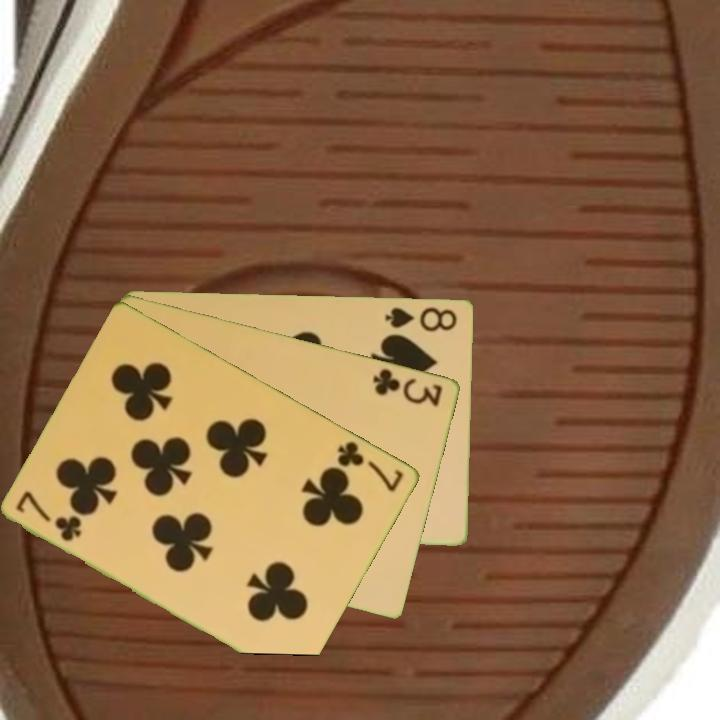3c: (369, 364, 446, 409)
7c: (334, 437, 407, 495), (13, 487, 86, 545)
8s: (382, 303, 460, 334)
